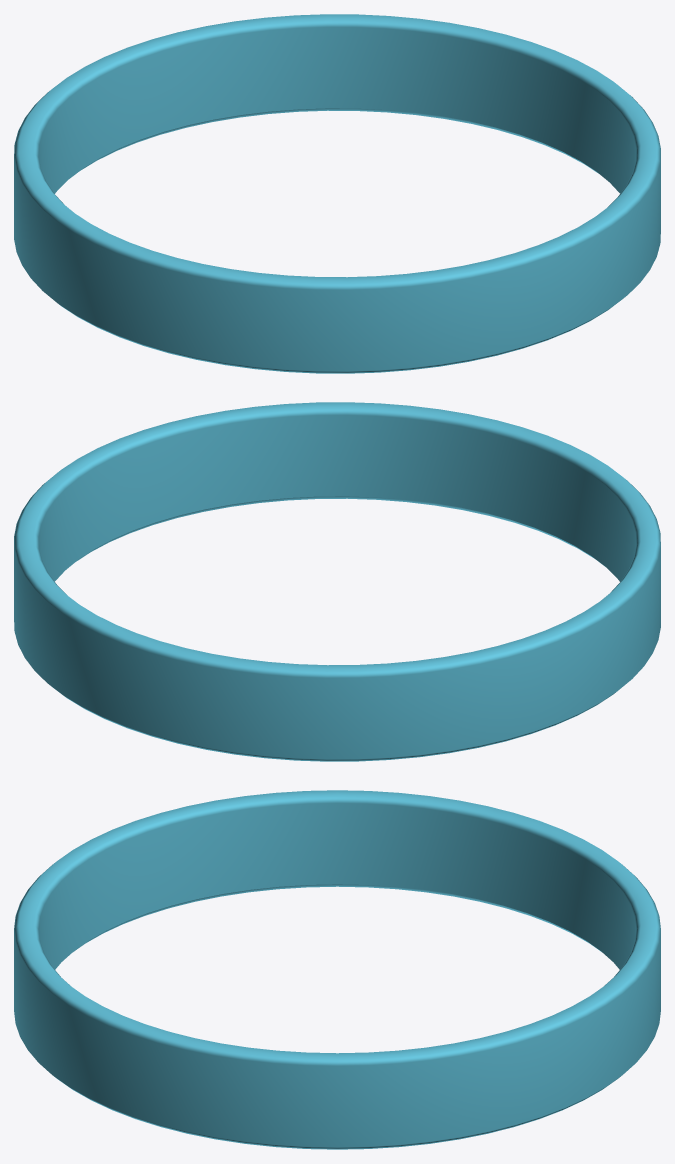
3 views of the same model, one above another, from view 1: azimuth 30°, elevation 25°; view 2: azimuth 150°, elevation 25°; view 3: azimuth 270°, elevation 25° (orthographic).
Parts seen in each view (by area): view 1: seal_body; view 2: seal_body; view 3: seal_body.
Boxes of the visible parts, x1=… form: seal_body: x1=14, y1=14, x2=660, y2=373; seal_body: x1=14, y1=402, x2=660, y2=761; seal_body: x1=14, y1=790, x2=660, y2=1149.
Bounding box in the file's own units: 0.0825 × 0.0127 × 0.0825.
